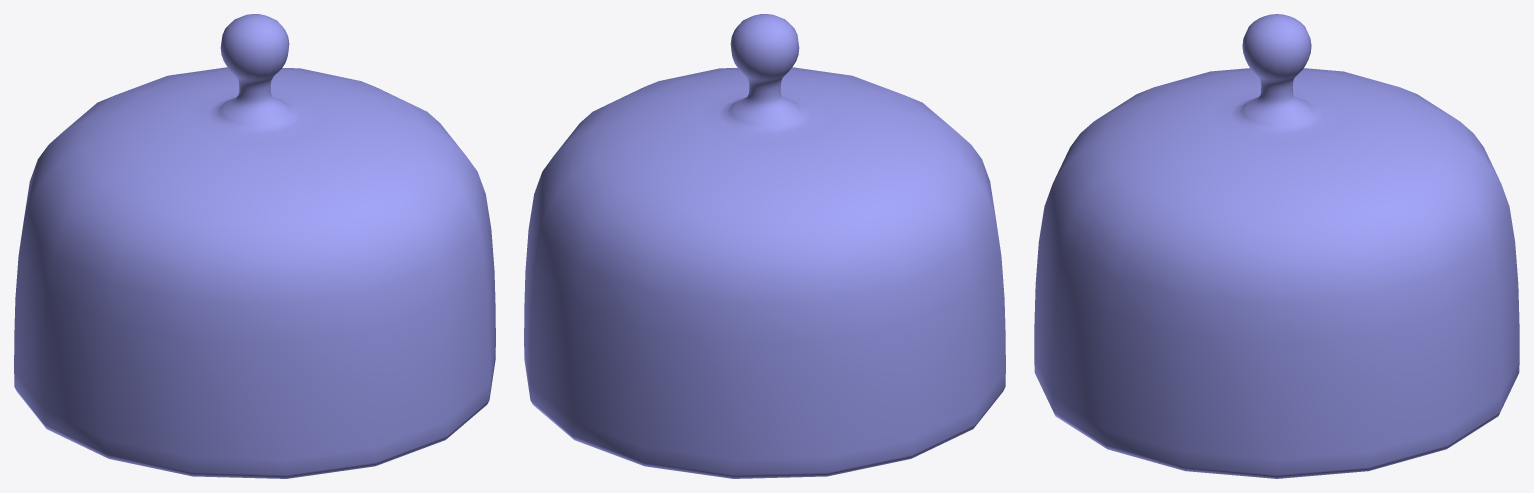
Rendered from Dessert _glass_lid.fbx.
3 views of the same model, side by side, from view 1: azimuth 30°, elevation 25°; view 2: azimuth 150°, elevation 25°; view 3: azimuth 270°, elevation 25° (orthographic).
Parts seen in each view (by area): view 1: Dessert _glass_lid; view 2: Dessert _glass_lid; view 3: Dessert _glass_lid.
Part boxes in pixels (x1,y1,x2,y2): Dessert _glass_lid: [14, 14, 495, 478]; Dessert _glass_lid: [524, 14, 1005, 478]; Dessert _glass_lid: [1034, 14, 1519, 478].
Size of the model in its own units: 41.17 by 33.69 by 41.17.
